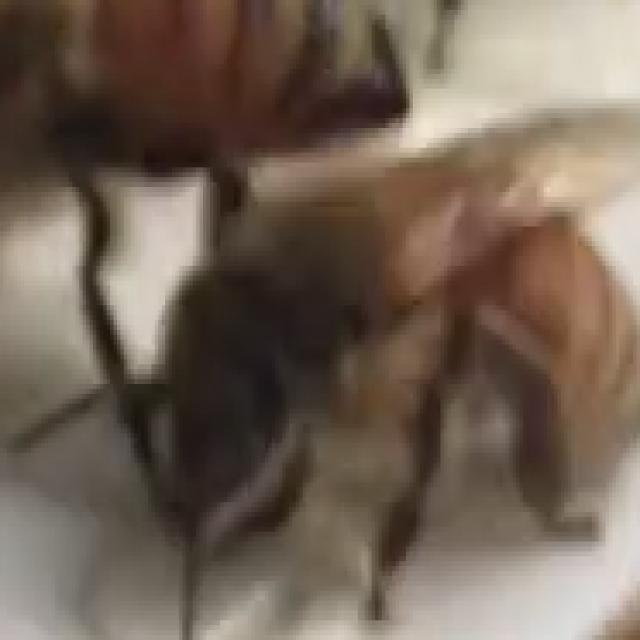honeybee: (84, 101, 614, 572), (32, 0, 411, 243)
